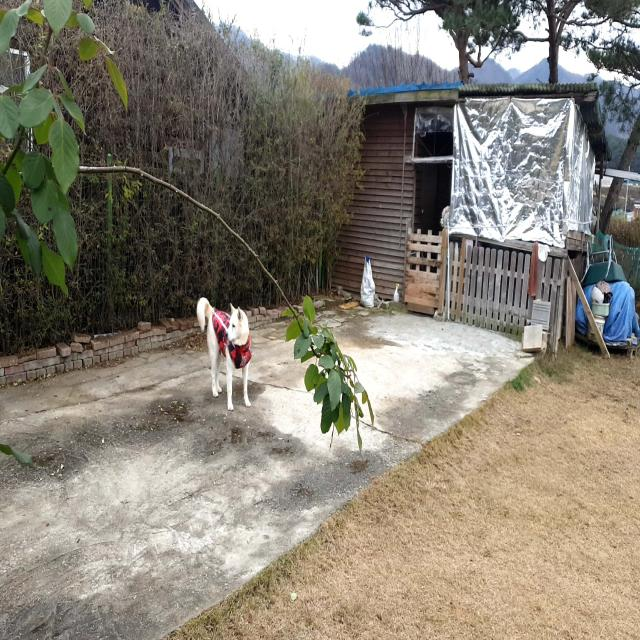Dog: (196, 295, 252, 412)
